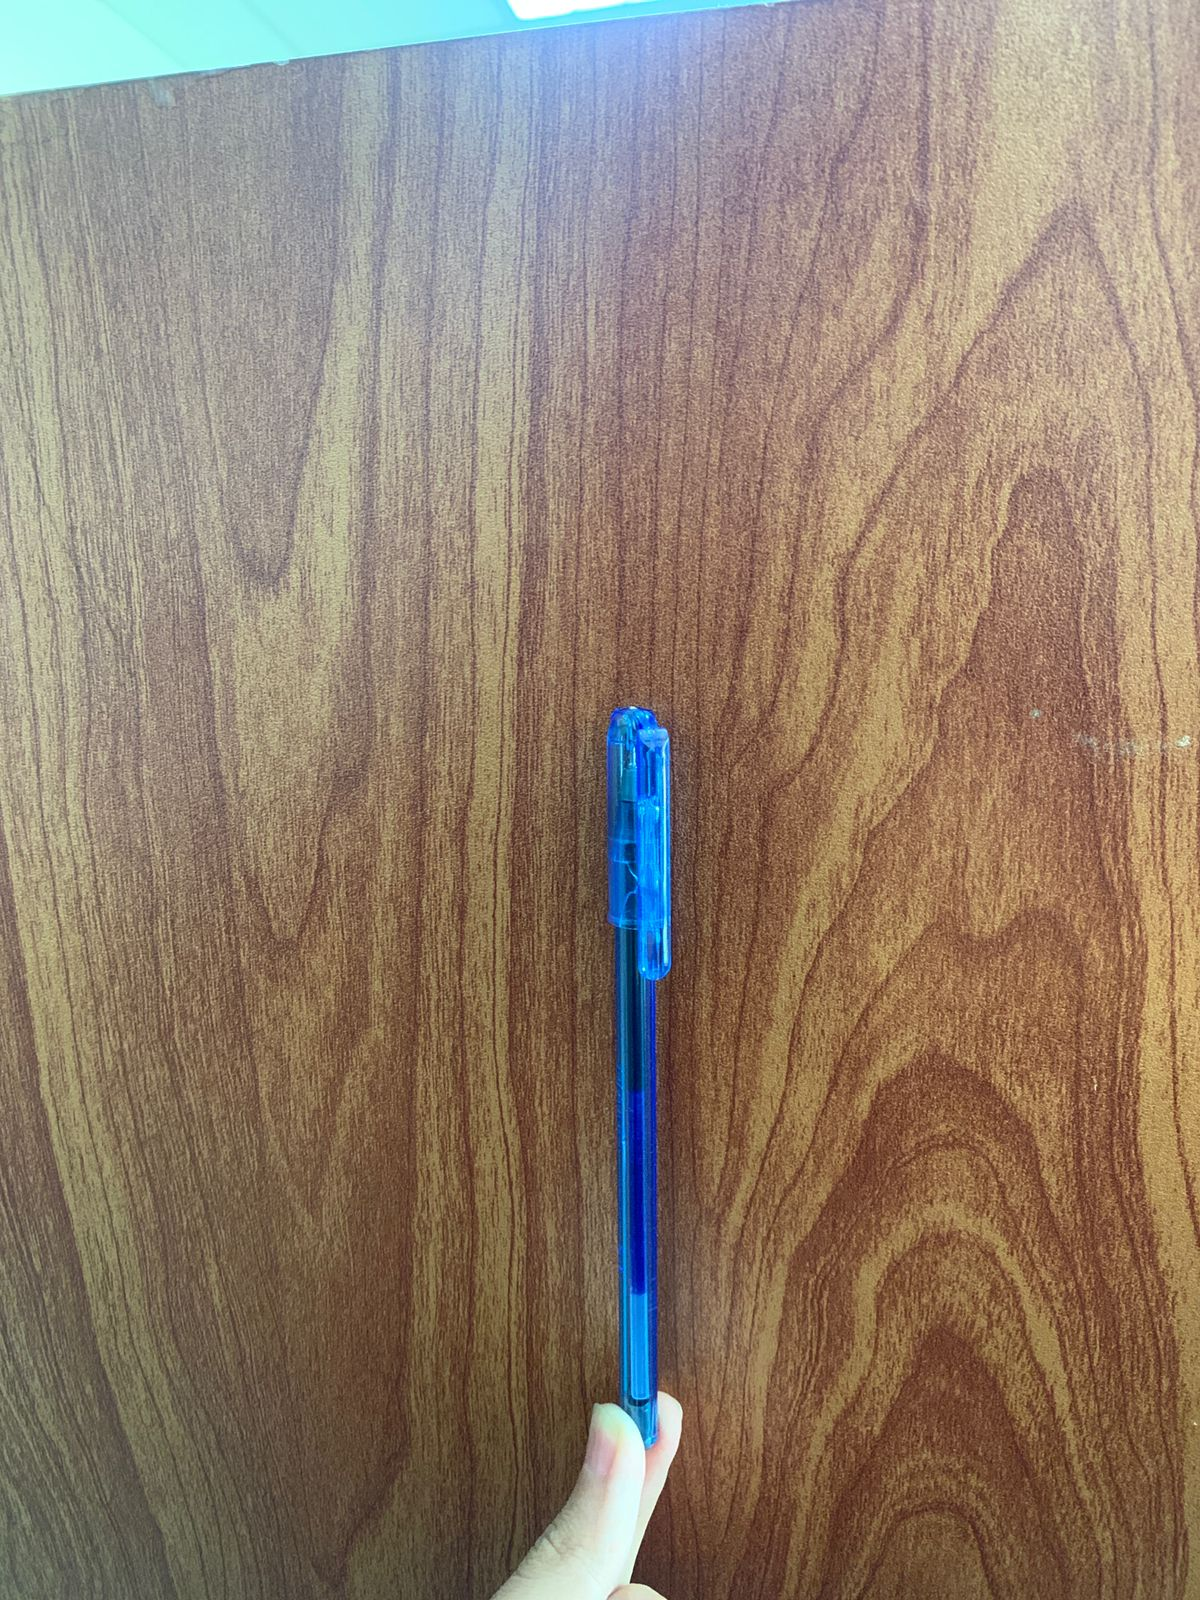pen: (504, 676, 825, 1504)
